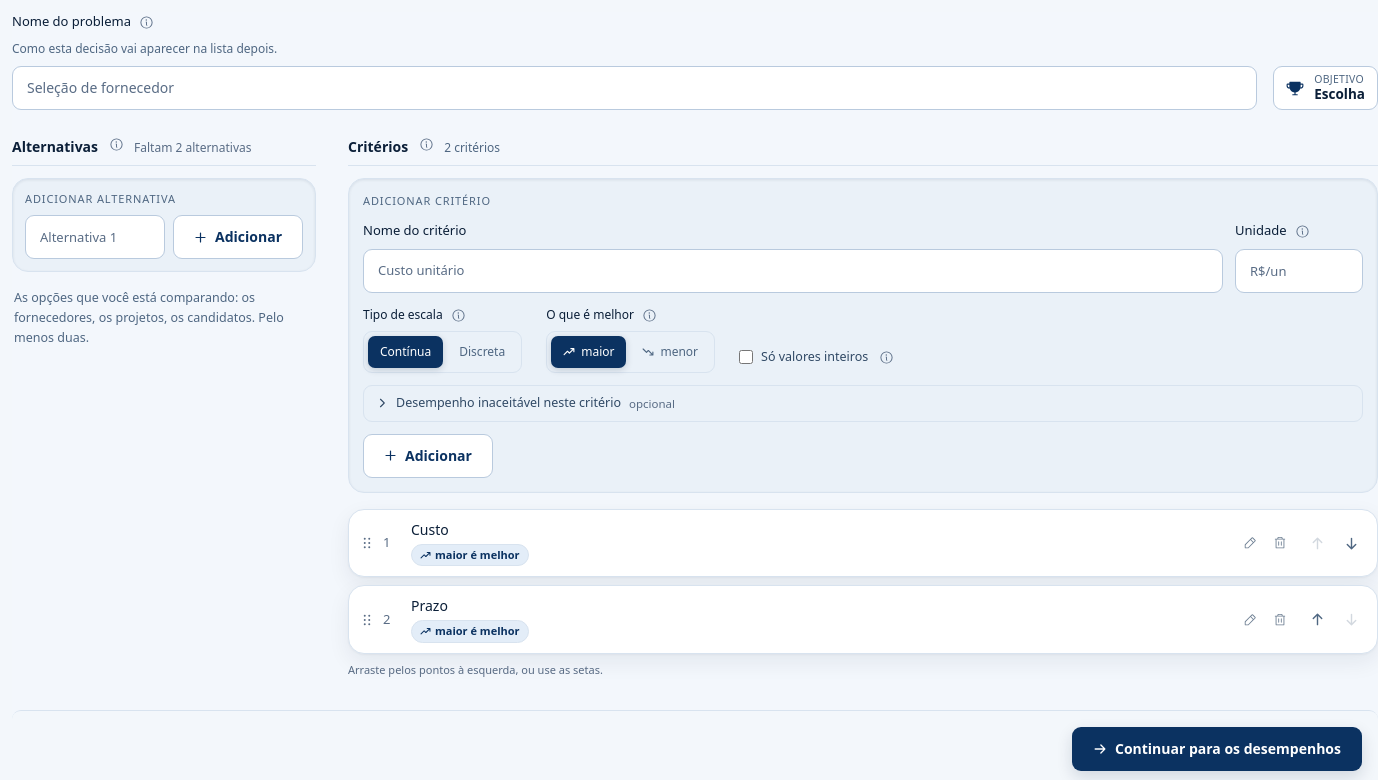
Test: o formulário do critério em edição › reordenar a lista não perde o que está sendo digitado
The image size is (1378, 780).
Click the button named "Editar Custo" at (1250, 543), box top-left (1237, 530), bottom-right (1263, 556)
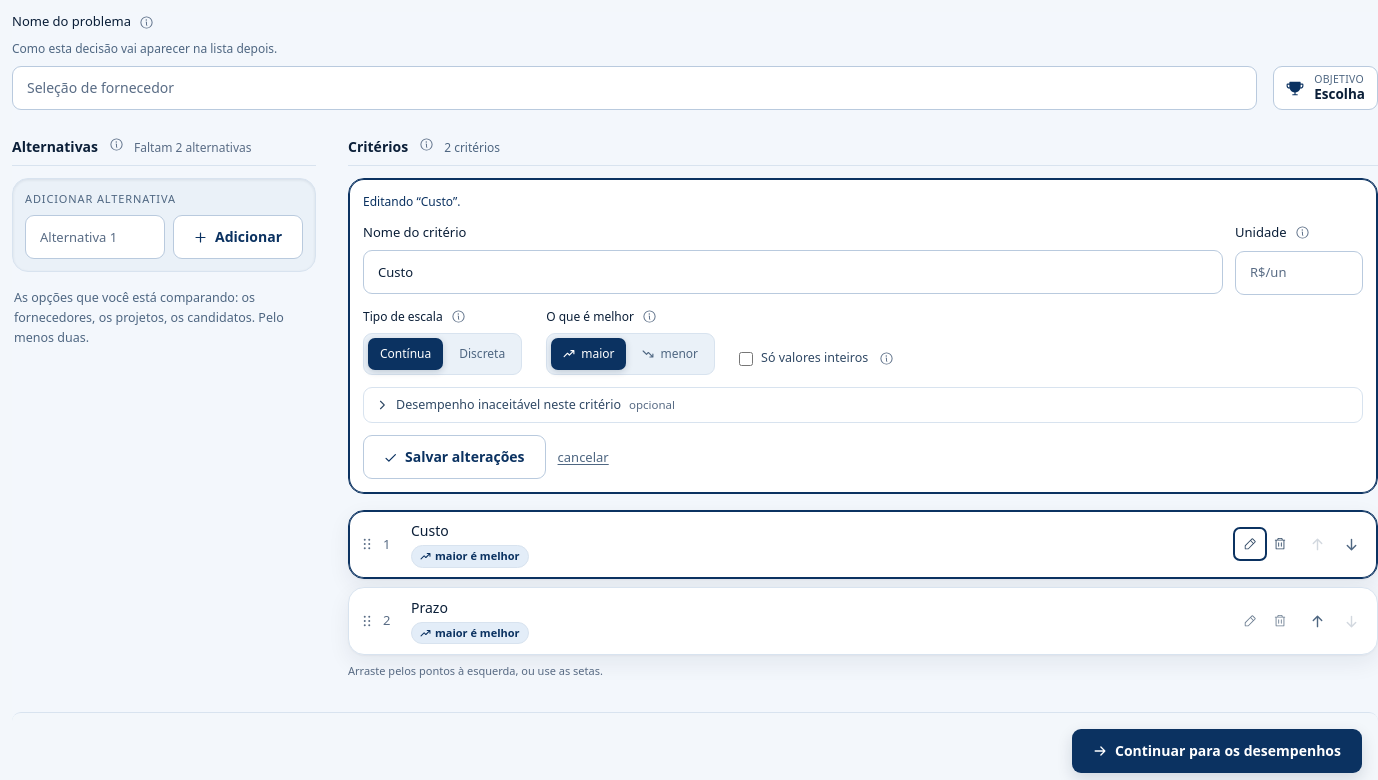
Type " unitário" into the field labelled "Nome do critério" at (793, 272), box top-left (363, 250), bottom-right (1223, 294)
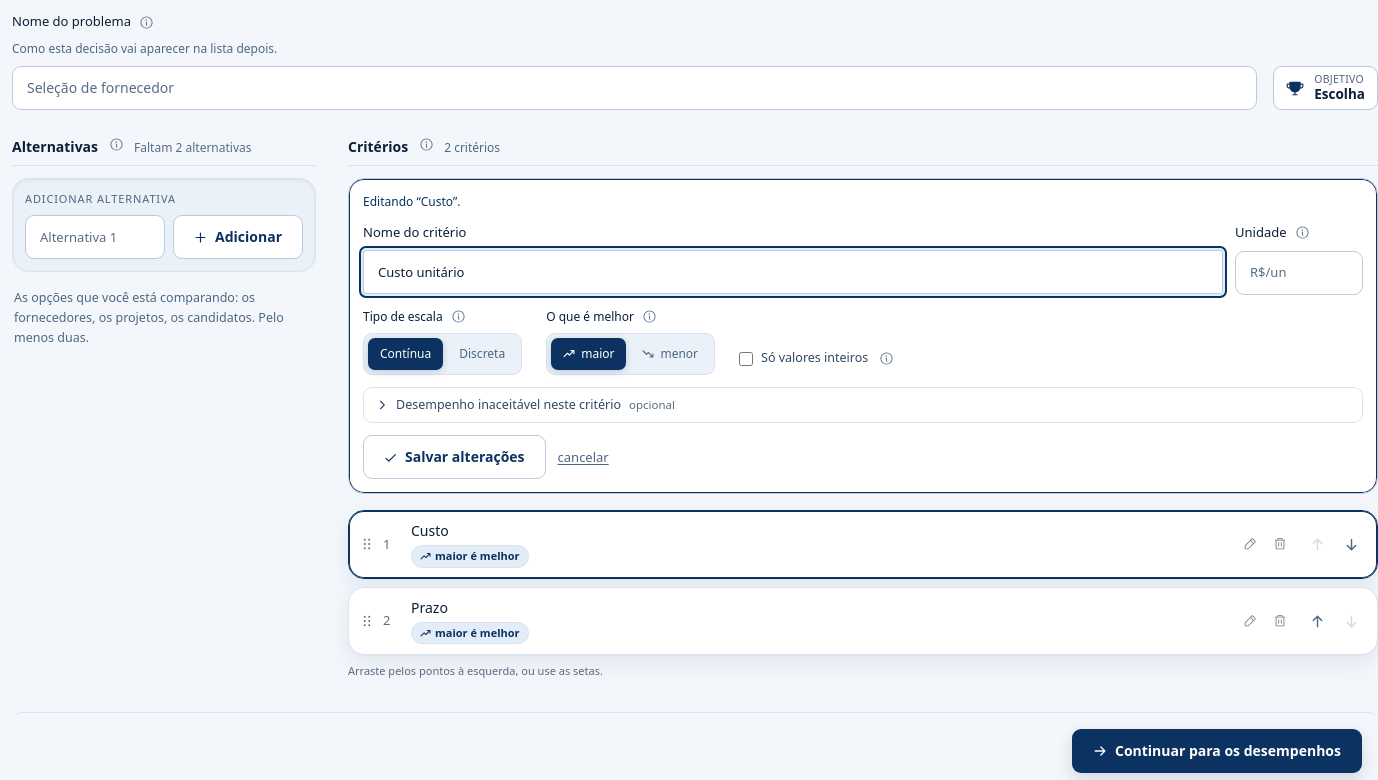
Click the button named "Mover Prazo para cima" at (1317, 621), box top-left (1301, 603), bottom-right (1333, 639)
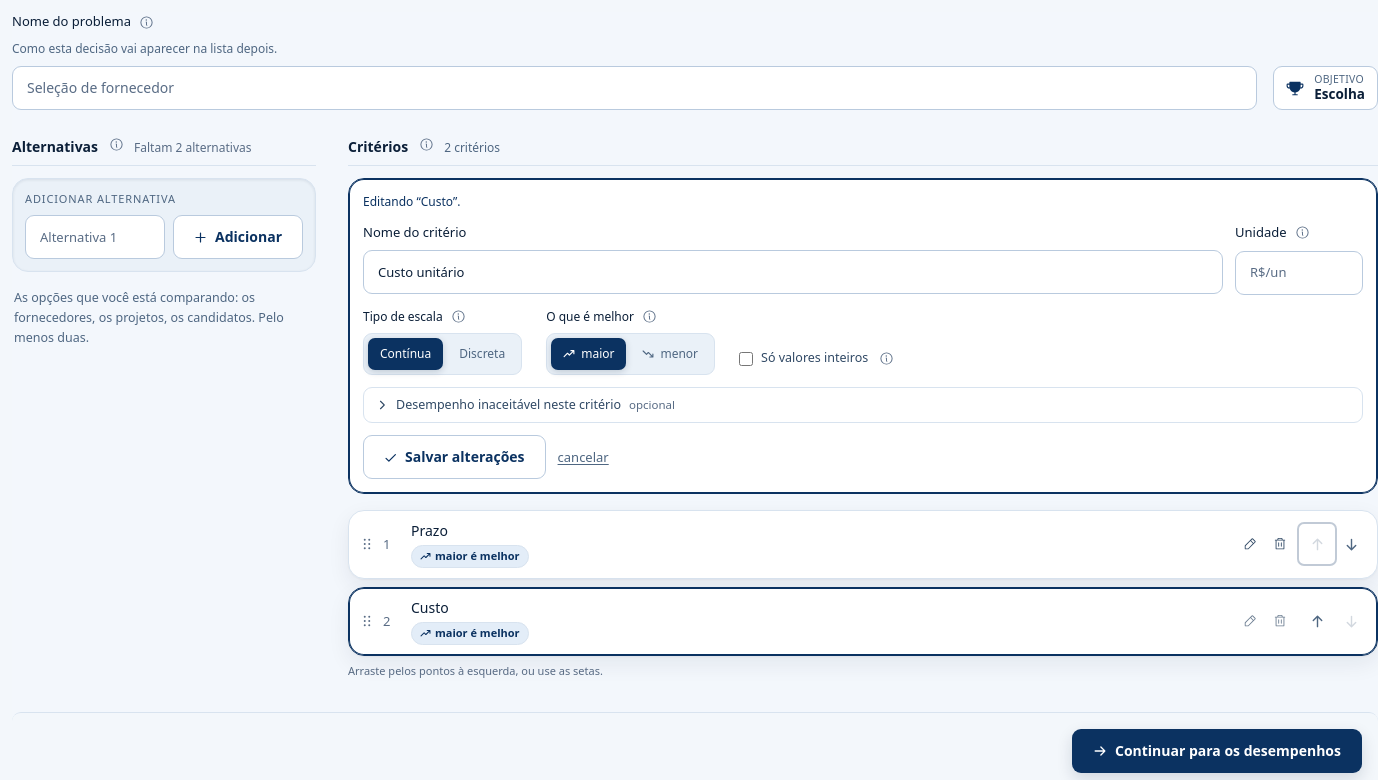
Result: the field labelled "Nome do critério" holds "Custo unitário" at top-left (363, 250), bottom-right (1223, 294)
Click the button "Salvar alterações" at (454, 457), box top-left (363, 435), bottom-right (546, 479)
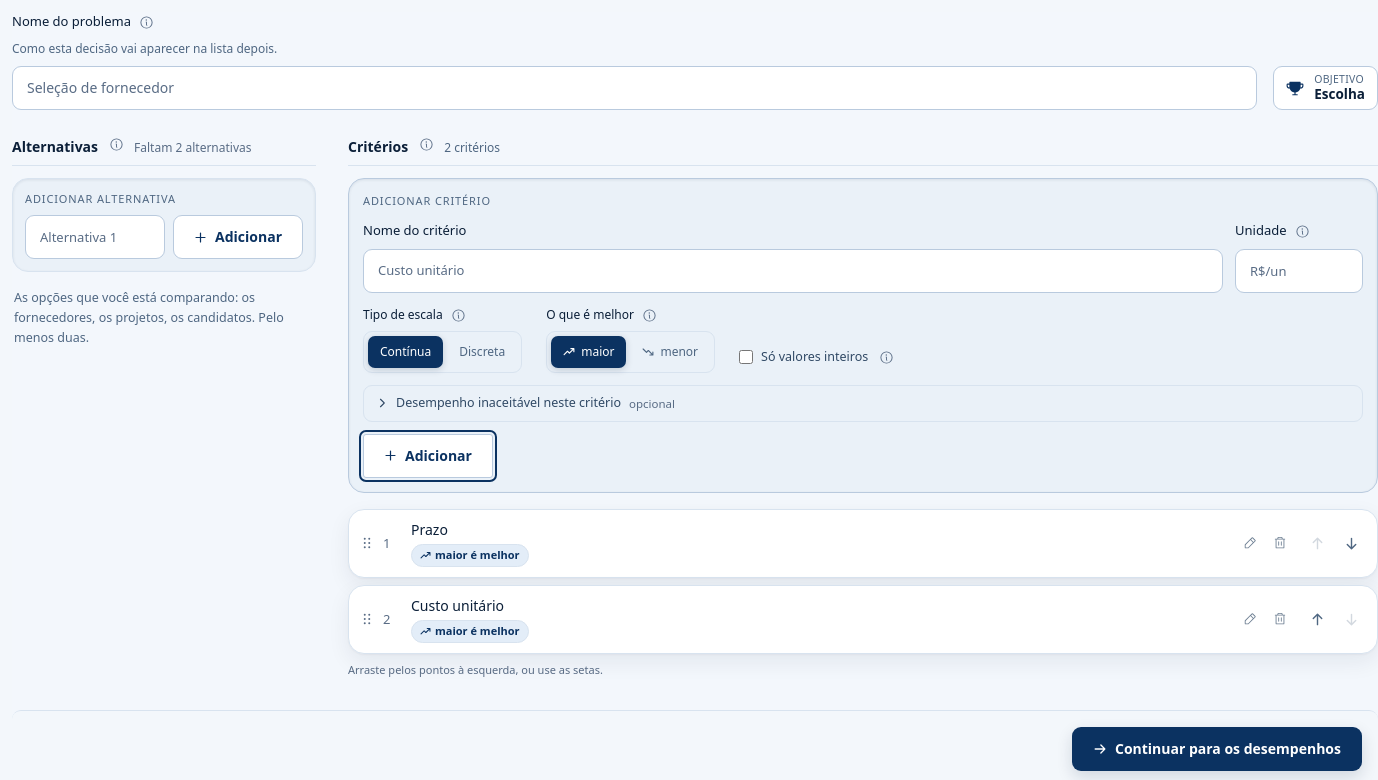
Result: the list item "1 Prazo maior é melhor" is shown at top-left (348, 509), bottom-right (1377, 577)
Result: the list item "2 Custo unitário maior é melhor" is shown at top-left (348, 585), bottom-right (1377, 654)
